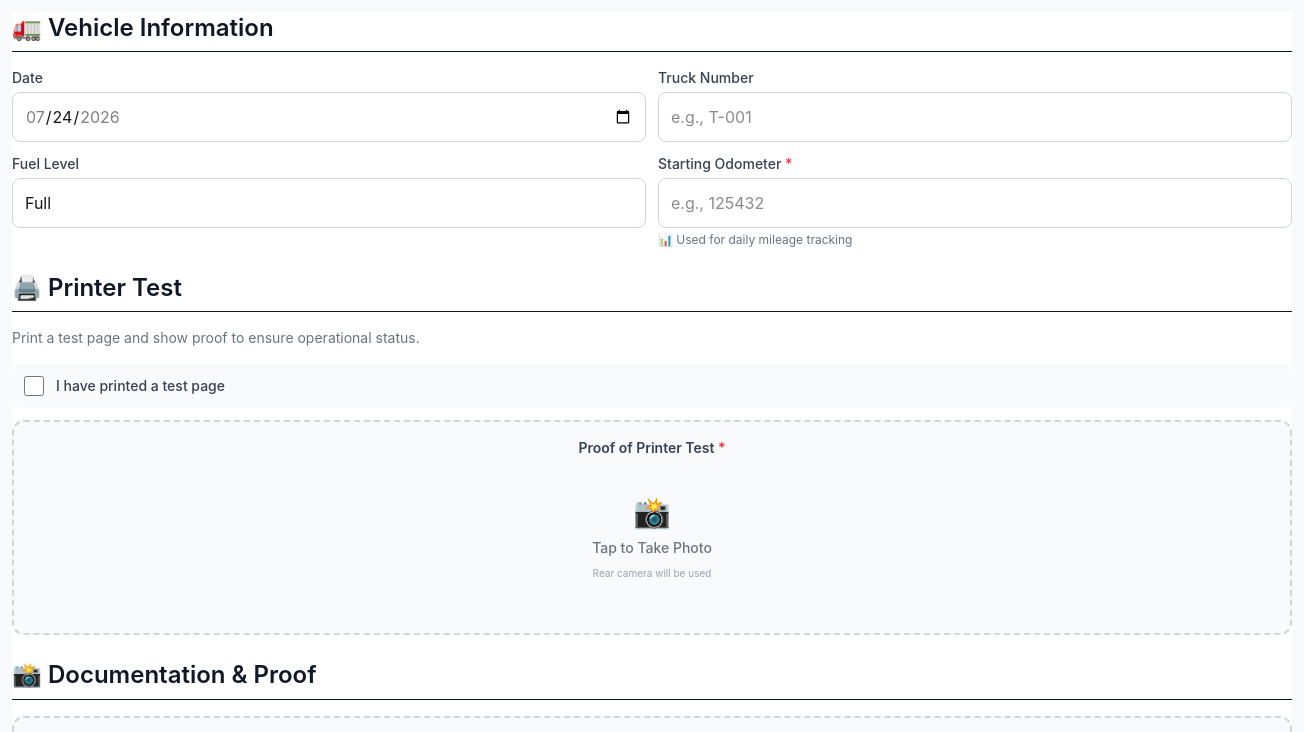
Test: SimpleSafetyChecklist (Start-of-Day) › hides the low-fuel warning again when fuel level is changed back to Full or 3/4
This screenshot has width=1304, height=732.
Select "Low - Need Fuel" in the dropdown labelled "Fuel Level": (329, 203) [12, 178, 646, 228]
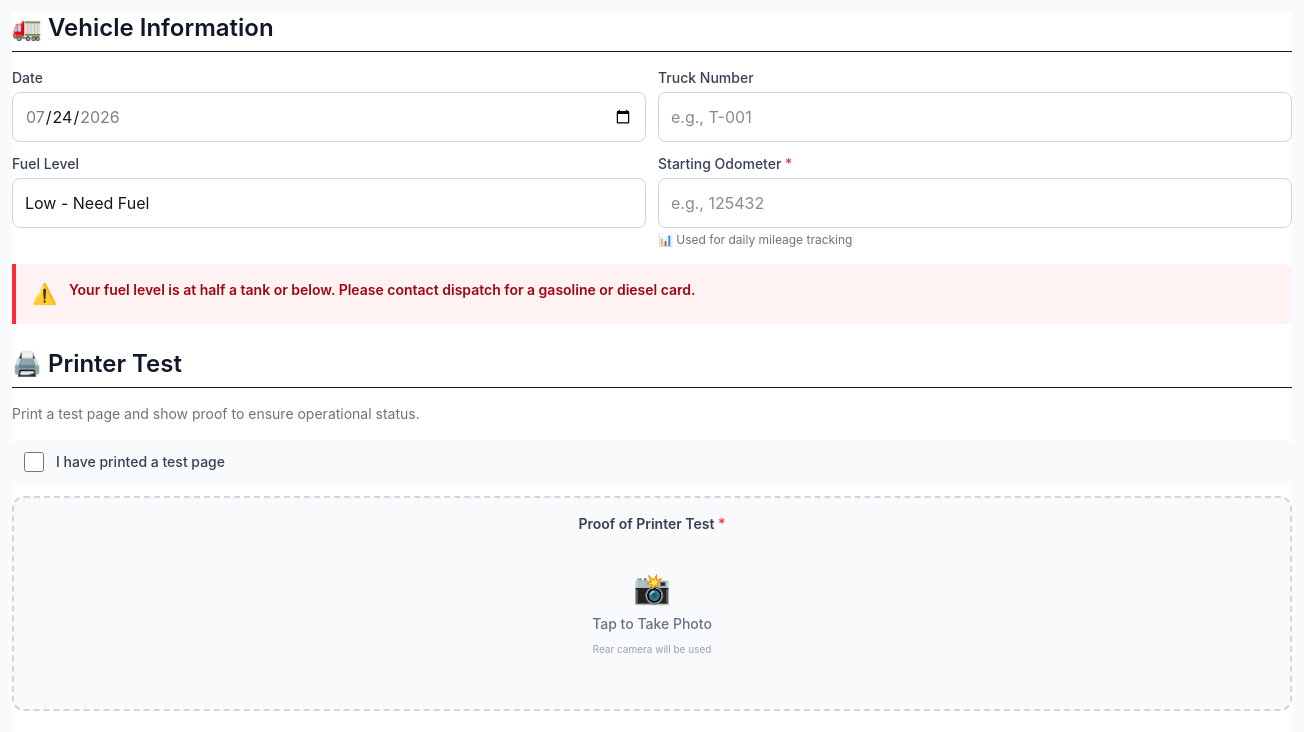
Now the text "Your fuel level is at half a tank or below" is shown, box [69, 281, 696, 298]
Select "3/4" in the dropdown labelled "Fuel Level": (329, 203) [12, 178, 646, 228]
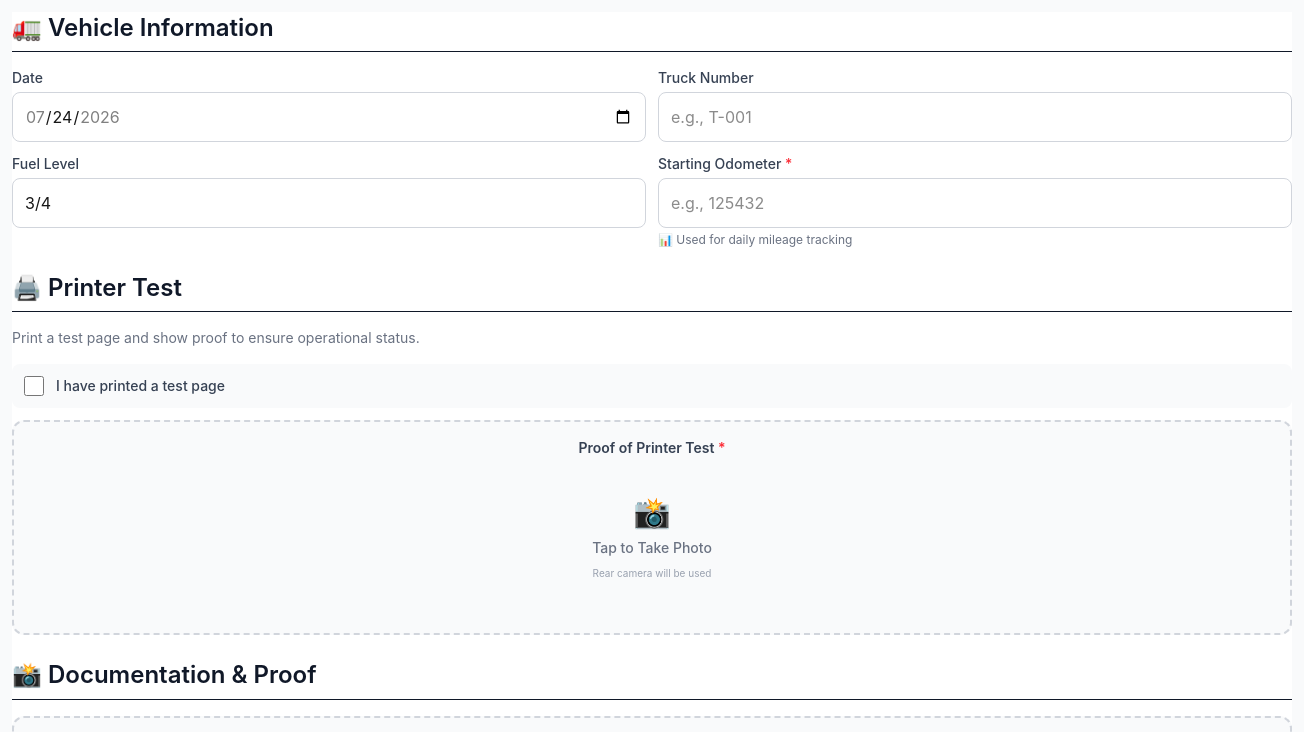
Now the text "Your fuel level is at half a tank or below" is gone
